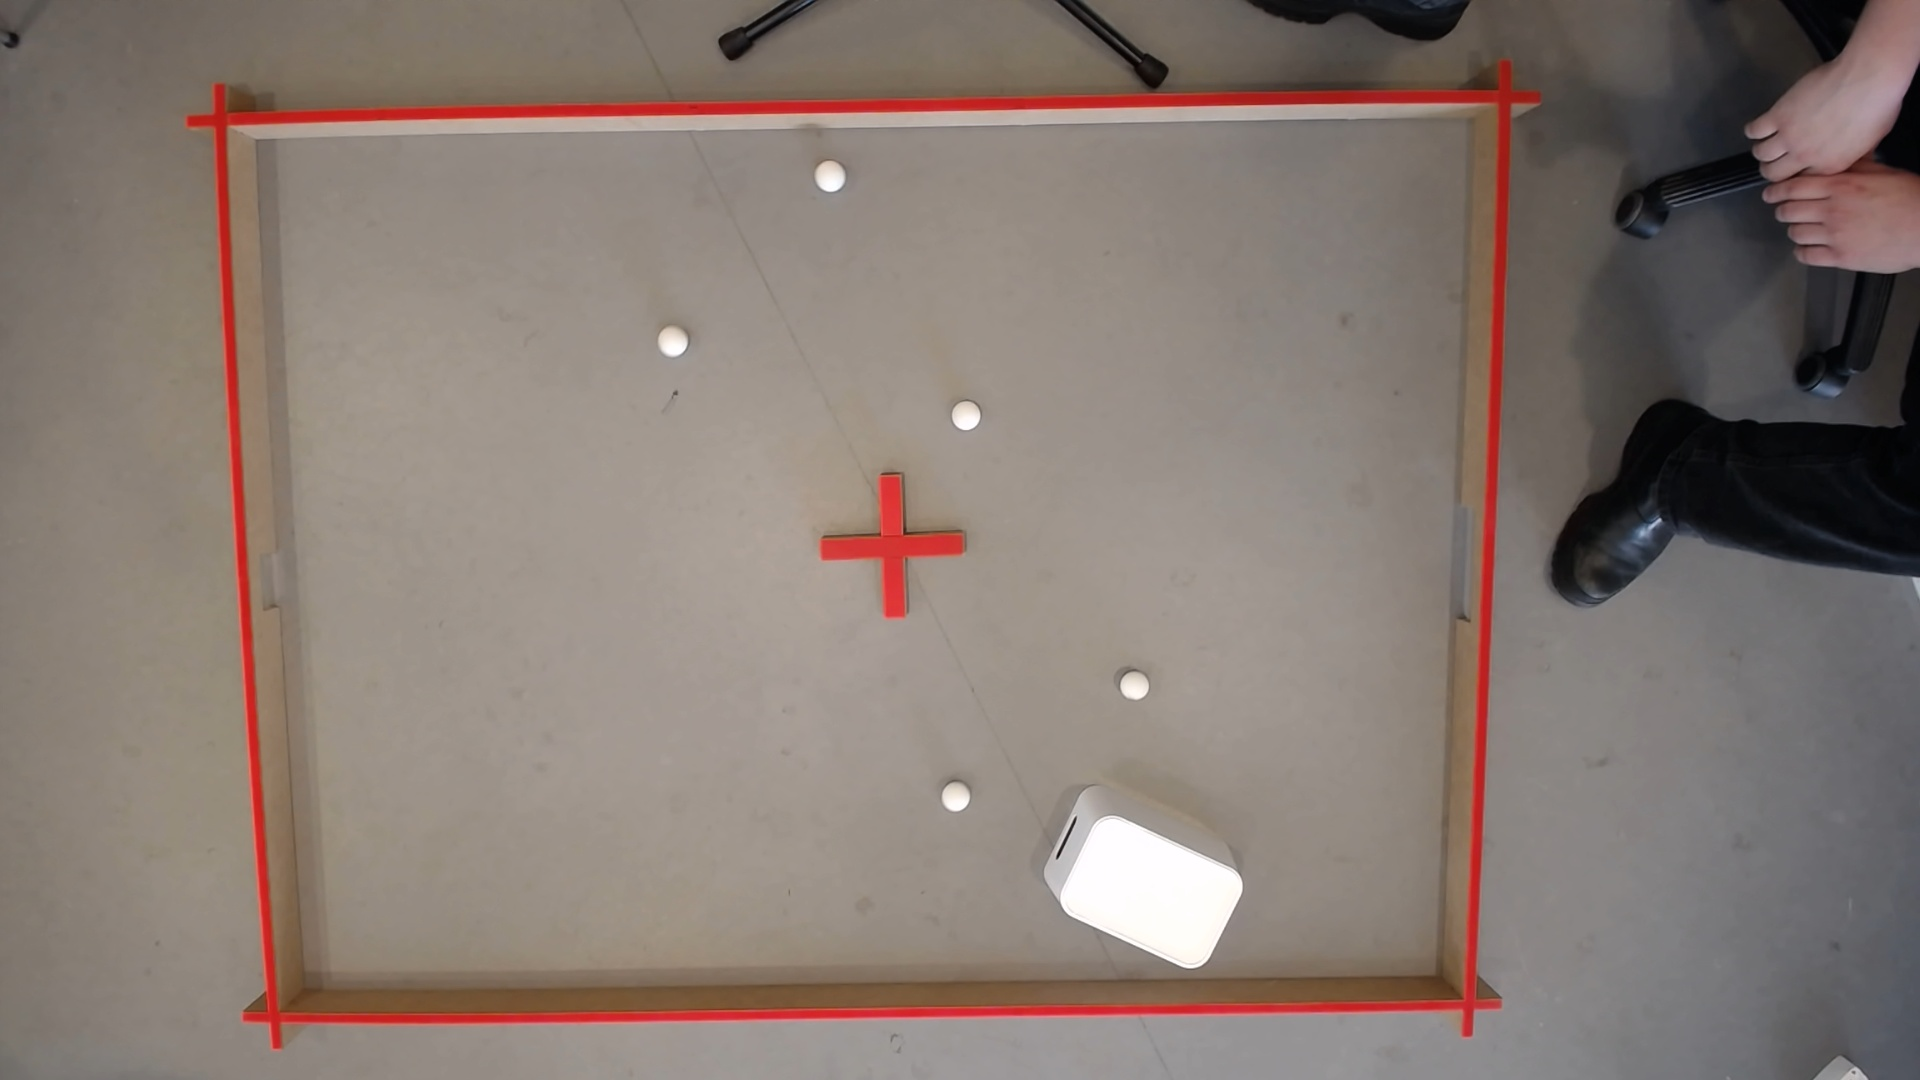balls: (1051, 806, 1249, 977), (811, 161, 847, 195), (654, 327, 690, 360), (948, 401, 981, 434), (1120, 678, 1147, 699)
car: (938, 783, 972, 815)
